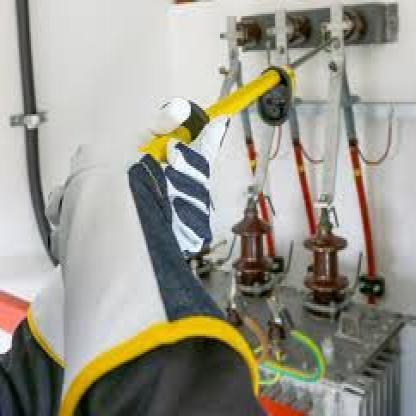gloves: (65, 135, 176, 324)
